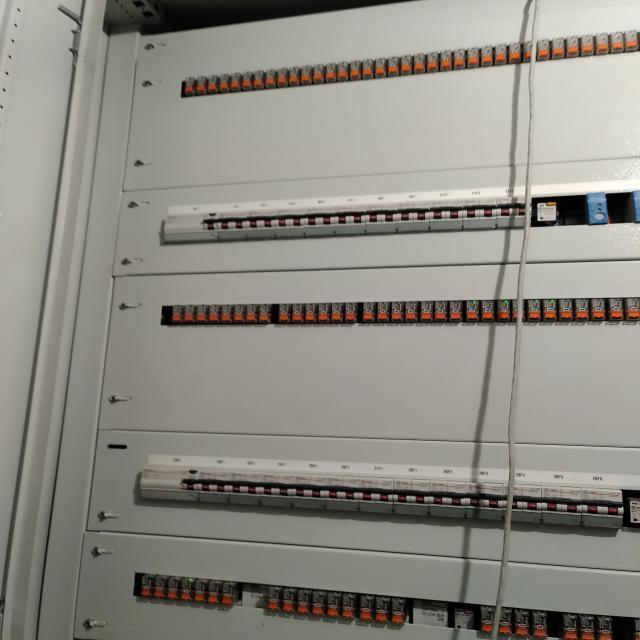Dimmer: (586, 192, 611, 225)
Leitungsschutzschalter: (142, 455, 200, 501), (540, 471, 583, 525), (463, 468, 504, 522), (427, 464, 467, 518), (585, 474, 623, 529), (502, 468, 540, 523), (392, 464, 431, 516), (325, 461, 363, 510), (359, 463, 396, 513), (165, 207, 217, 241), (292, 460, 327, 510), (197, 455, 232, 503), (395, 192, 432, 235), (230, 458, 264, 504), (263, 459, 294, 507), (461, 189, 497, 230), (495, 187, 530, 229), (429, 190, 464, 231), (215, 204, 251, 240), (304, 198, 337, 235), (365, 196, 398, 233), (335, 197, 367, 234), (276, 201, 307, 238), (249, 203, 278, 239), (532, 198, 562, 227)
Relais: (532, 610, 549, 637), (513, 609, 530, 636), (221, 581, 239, 605), (390, 597, 407, 622), (578, 614, 595, 639), (562, 613, 578, 639), (374, 596, 391, 620), (341, 593, 358, 617), (497, 608, 512, 635), (326, 591, 342, 616), (597, 615, 613, 640), (480, 606, 495, 632), (359, 594, 375, 618), (311, 590, 327, 614), (590, 298, 607, 320), (207, 580, 223, 603), (296, 589, 312, 612), (281, 587, 297, 610), (596, 32, 612, 54), (536, 38, 551, 61), (493, 43, 508, 66), (267, 587, 282, 610), (526, 299, 542, 320), (447, 301, 463, 322), (558, 299, 574, 320), (608, 298, 624, 319), (624, 30, 639, 52), (580, 34, 595, 56), (551, 37, 566, 59), (194, 579, 209, 601), (574, 298, 589, 320), (154, 575, 168, 598), (167, 576, 181, 599), (180, 577, 194, 600), (433, 301, 449, 321), (465, 47, 480, 68), (625, 298, 640, 319), (497, 299, 512, 320), (508, 42, 522, 64), (453, 48, 467, 70), (480, 45, 494, 67), (375, 302, 390, 322), (361, 302, 376, 322), (465, 301, 480, 321), (418, 301, 433, 321), (361, 59, 375, 80), (566, 36, 580, 57), (611, 32, 625, 53), (344, 303, 359, 322), (405, 302, 419, 322), (481, 300, 495, 320), (240, 71, 254, 91), (288, 66, 301, 87), (300, 65, 313, 86), (413, 53, 426, 74), (441, 50, 454, 71), (275, 67, 288, 88), (324, 63, 337, 84), (349, 60, 362, 81), (257, 304, 272, 322), (390, 302, 404, 321), (317, 303, 331, 322), (543, 300, 557, 319), (290, 304, 304, 323), (142, 575, 154, 597), (427, 52, 440, 72), (400, 55, 413, 75), (375, 58, 388, 78), (198, 75, 210, 96), (263, 69, 275, 90), (388, 56, 400, 77), (334, 62, 346, 83), (278, 304, 292, 322), (244, 304, 258, 322), (330, 303, 343, 322), (210, 75, 222, 95), (313, 64, 325, 84), (232, 304, 245, 322), (523, 41, 534, 62), (222, 74, 234, 93), (198, 304, 211, 321), (183, 78, 195, 96), (304, 304, 316, 322), (208, 304, 220, 322), (253, 70, 264, 89), (220, 305, 232, 322), (231, 73, 241, 91), (172, 306, 183, 322), (183, 306, 194, 322)
